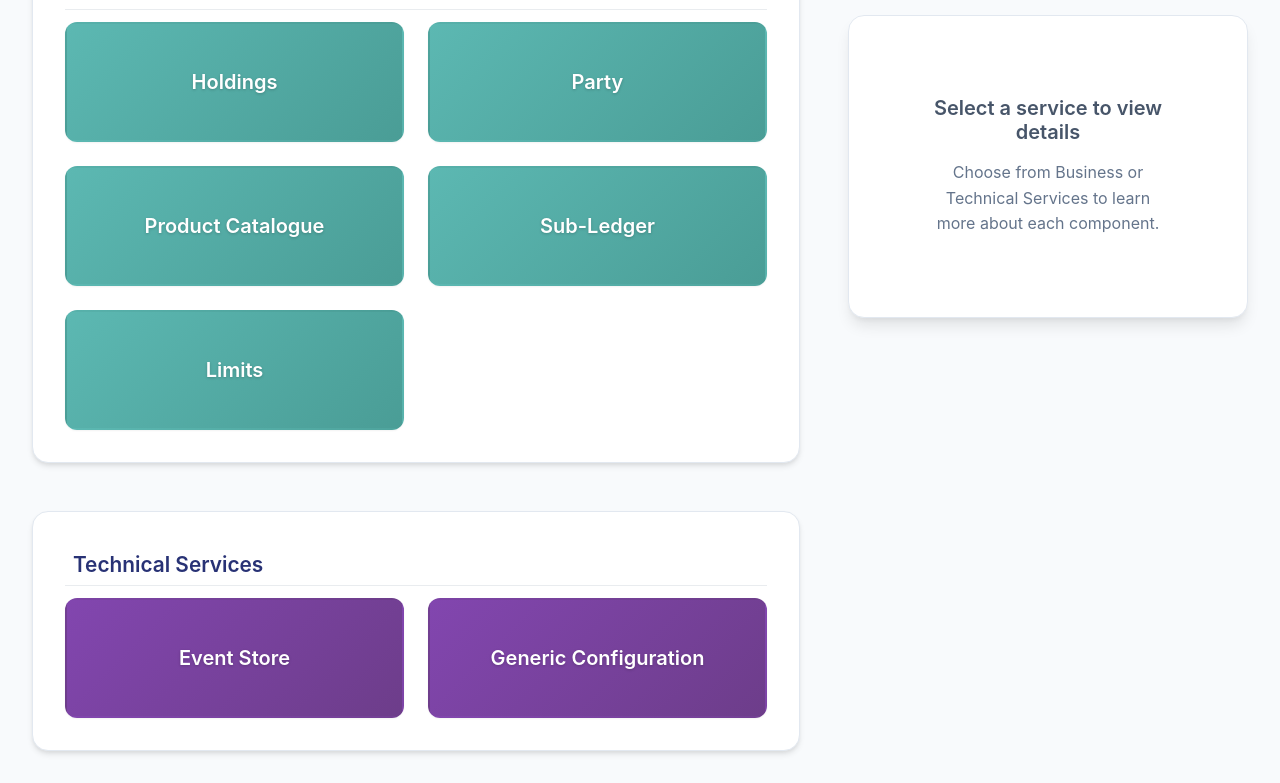
Test: SupportingServices Component › clicking technical service updates selected state and details pane
(page scrolled)
Click the button with test id "event-store-service" at (234, 658), box [65,598,404,718]
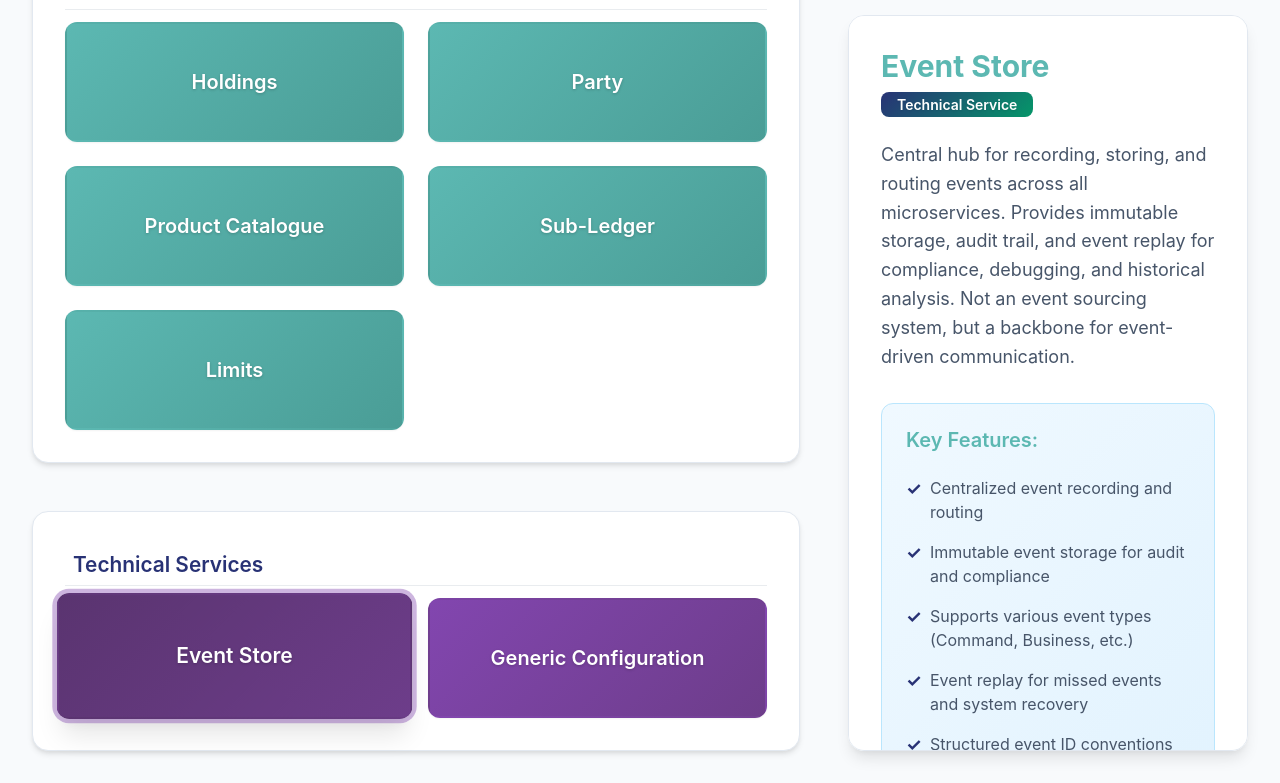
Expected: the element with test id "details-pane" shows "Event Store", [881,48,1049,84]
